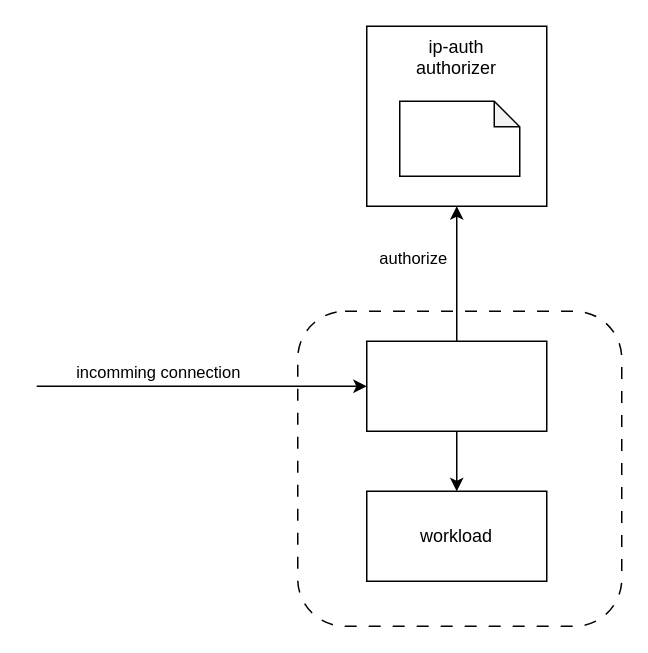
Image size: 648x653. Some labels were removed from this diagram. The box of each missing label's shape, as (x1, y1, x2, y2) in pixels:
envoy proxy: (365, 340, 547, 431)
IP block list: (398, 100, 520, 176)
